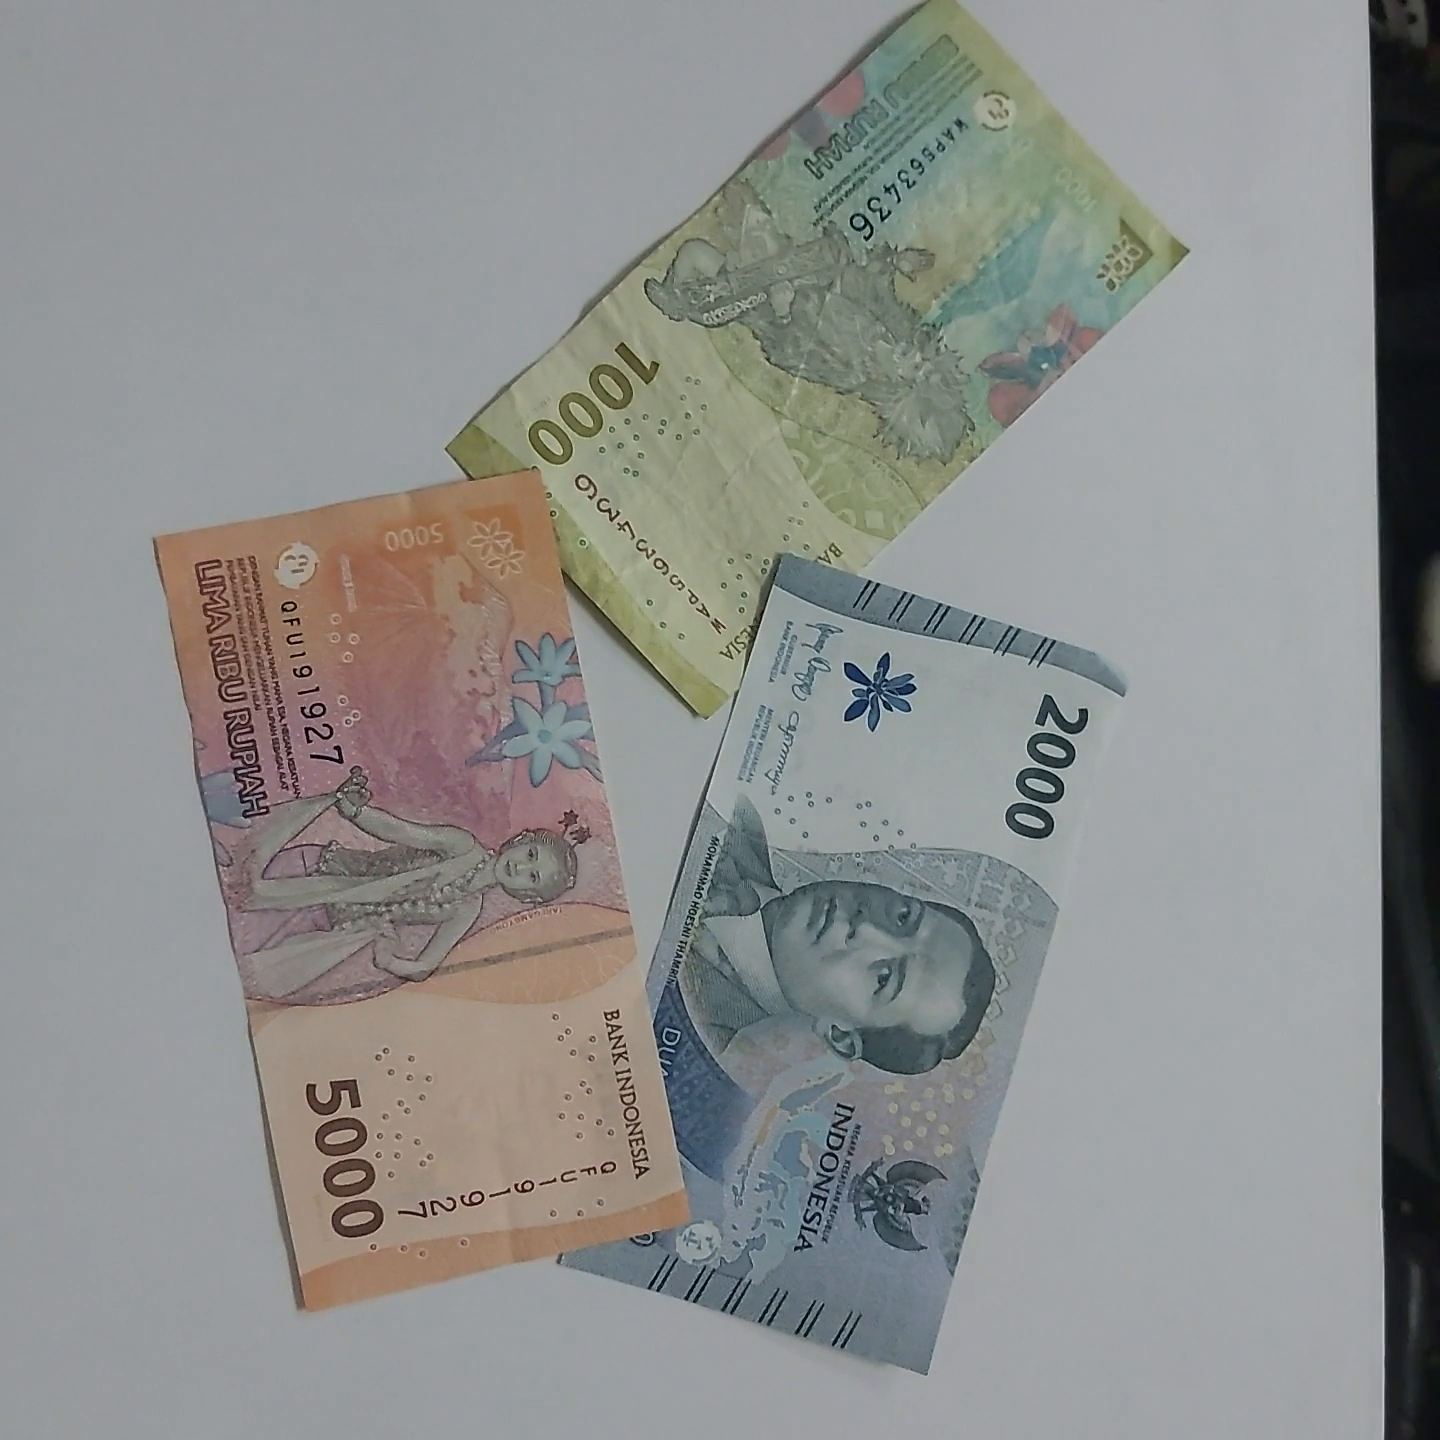1k: (415, 32, 1287, 688)
2k: (560, 576, 1185, 1387)
5k: (127, 475, 675, 1319)
